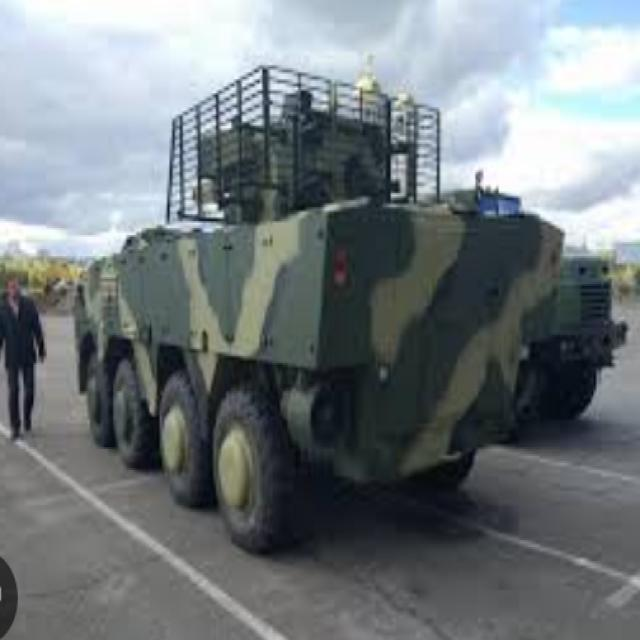MIL_APC: (51, 67, 585, 557)
